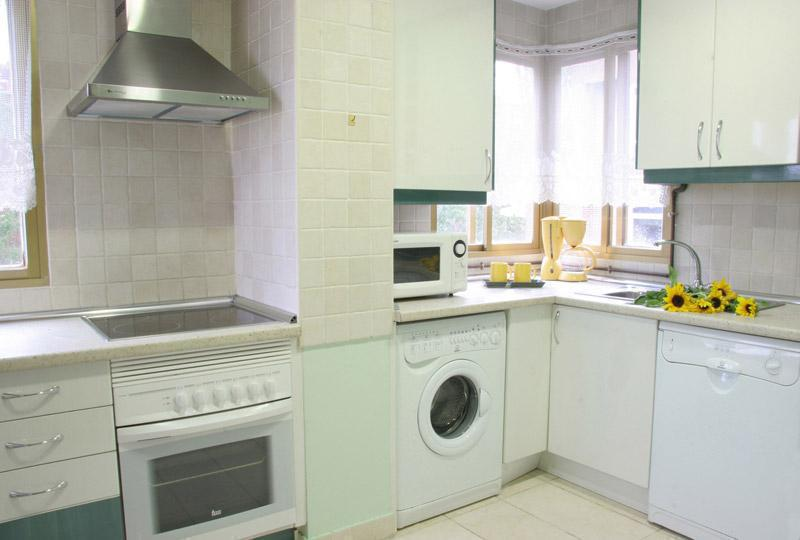Electrodomestico: (112, 347, 303, 536), (662, 319, 796, 539), (396, 313, 504, 503)
Lavaplatos: (599, 235, 780, 321)
